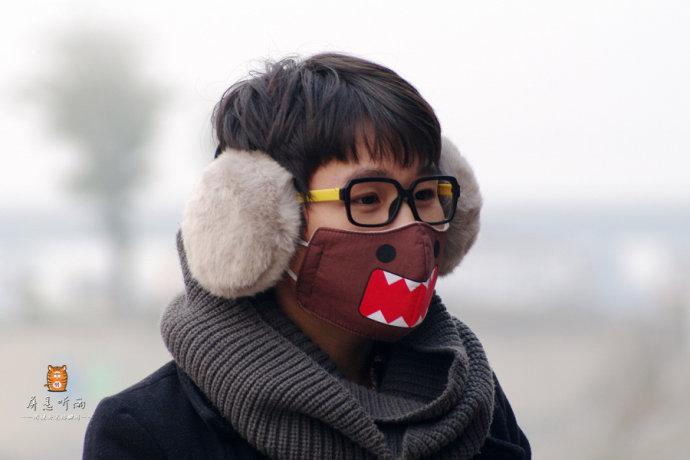OK: (296, 167, 446, 346)
